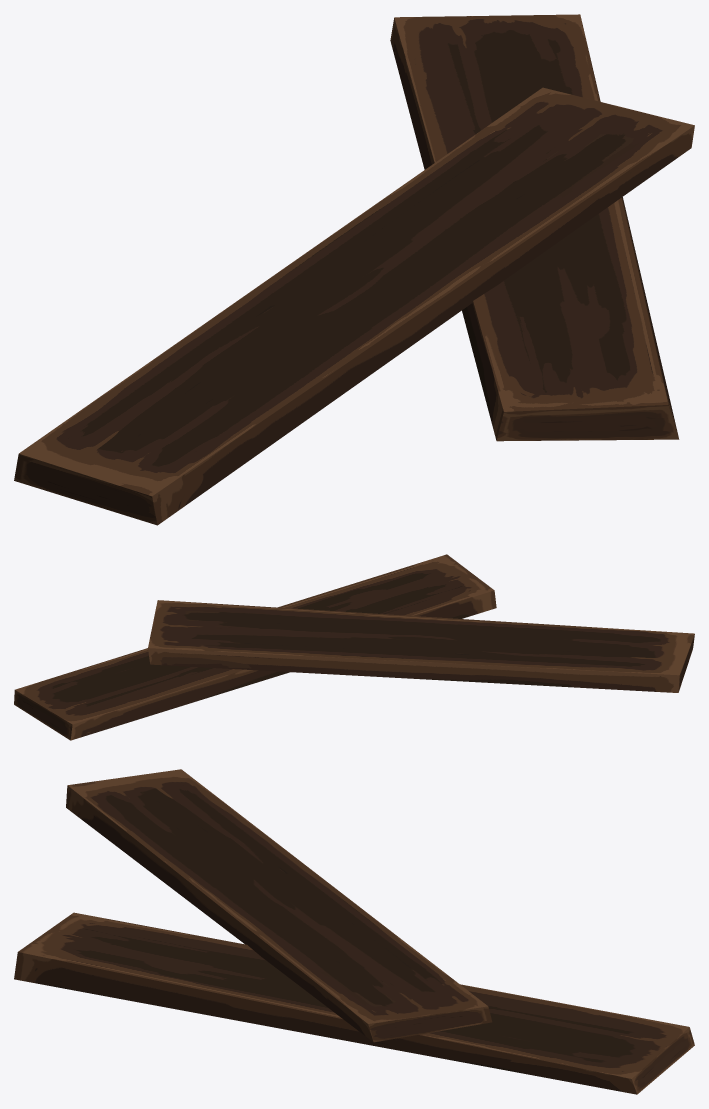
Rendered from SM_PROP_planks_dungeon_02.fbx.
The picture shows the model from 3 angles, top to bottom: view 1: azimuth 30°, elevation 25°; view 2: azimuth 150°, elevation 25°; view 3: azimuth 270°, elevation 25°; orthographic projection. The views are drawn at different scales.
Parts seen in each view (by area): view 1: SM_PROP_planks_dungeon_02; view 2: SM_PROP_planks_dungeon_02; view 3: SM_PROP_planks_dungeon_02.
Part boxes in pixels (left/top/right/bottom): SM_PROP_planks_dungeon_02: left=14, top=14, right=694, bottom=525; SM_PROP_planks_dungeon_02: left=14, top=554, right=694, bottom=740; SM_PROP_planks_dungeon_02: left=14, top=769, right=694, bottom=1094.
Size of the model in its own units: 172 by 12.41 by 163.
